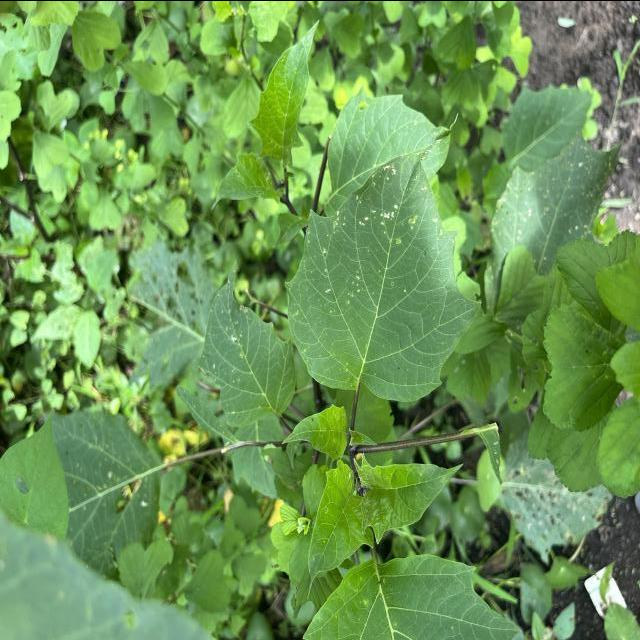Datura metal linn: (283, 108, 484, 404), (245, 15, 322, 172), (351, 448, 467, 546), (304, 457, 376, 601), (278, 402, 350, 462)
